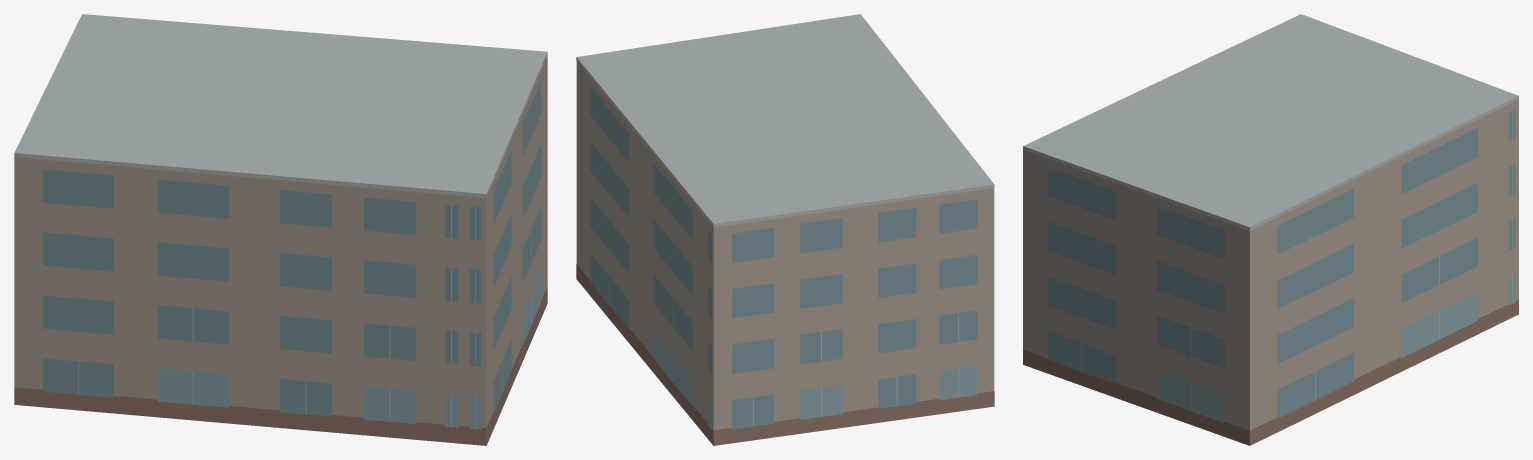
The model's file is survey-upis-32489520.glb.
3 renders of one model, left to right at view 1: azimuth 30°, elevation 25°; view 2: azimuth 150°, elevation 25°; view 3: azimuth 270°, elevation 25°, orthographic. The views are drawn at different scales.
Parts seen in each view (by area): view 1: survey-upis-32489520.tmp; view 2: survey-upis-32489520.tmp; view 3: survey-upis-32489520.tmp.
Boxes of the visible parts, bbox=[...] form: survey-upis-32489520.tmp: bbox=[14, 14, 547, 445]; survey-upis-32489520.tmp: bbox=[576, 14, 994, 445]; survey-upis-32489520.tmp: bbox=[1023, 14, 1518, 445].
Size of the model in its own units: 30.77 by 14.7 by 30.22.
